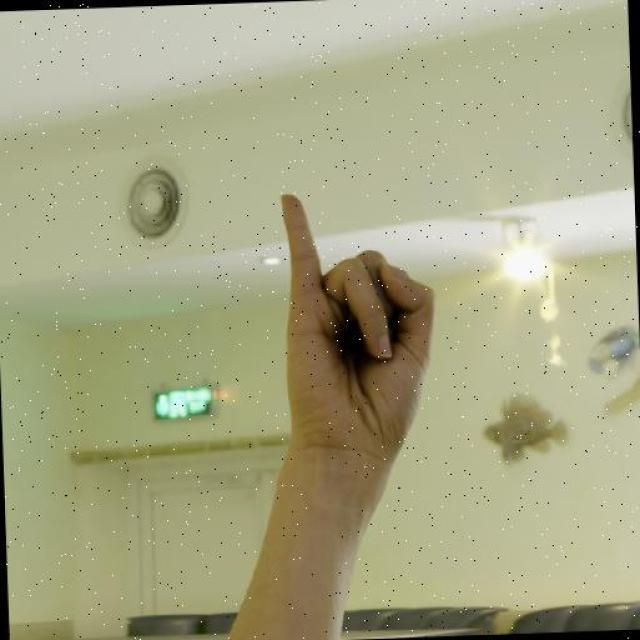I: (276, 186, 445, 444)
